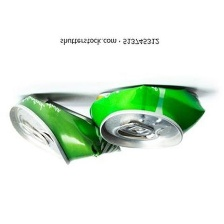can: (6, 91, 124, 168), (86, 79, 207, 150)
